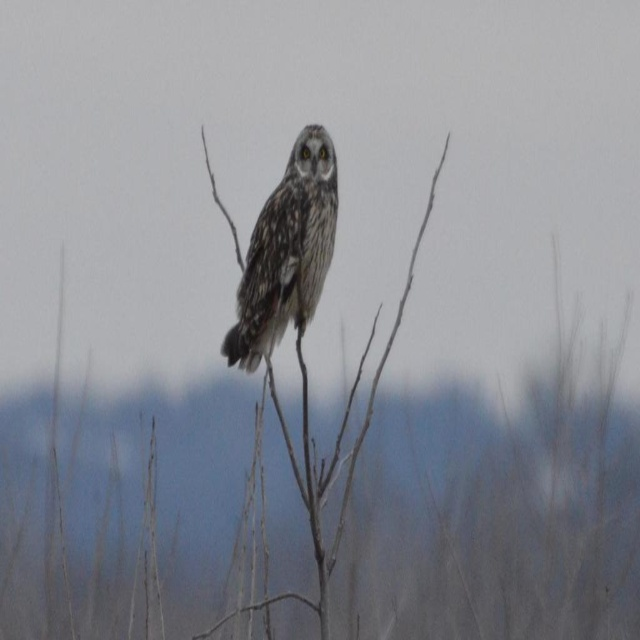Owl: (214, 122, 341, 375)
